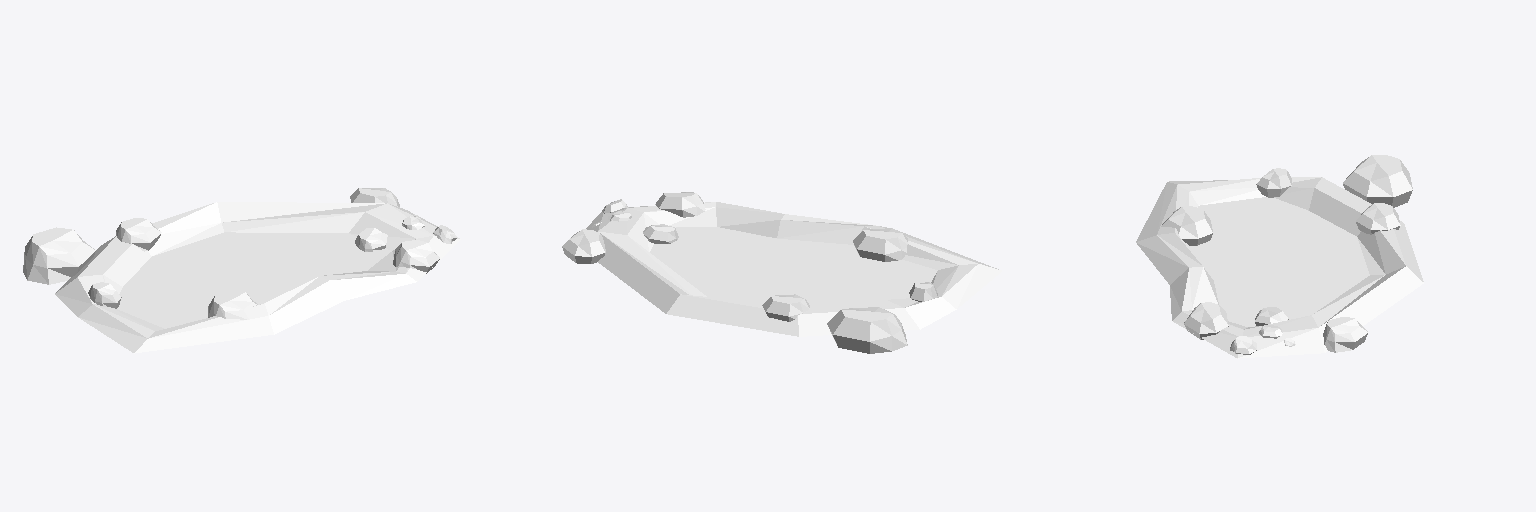
The model's file is oczko_wodne.obj.
The picture shows the model from 3 angles: view 1: azimuth 30°, elevation 25°; view 2: azimuth 150°, elevation 25°; view 3: azimuth 270°, elevation 25°; orthographic projection.
Parts seen in each view (by area): view 1: oczko_wodne; view 2: oczko_wodne; view 3: oczko_wodne.
Part boxes in pixels (left/top/right/bottom): oczko_wodne: left=23, top=188, right=460, bottom=353; oczko_wodne: left=562, top=192, right=1001, bottom=353; oczko_wodne: left=1136, top=155, right=1423, bottom=358.
Size of the model in its own units: 477 by 43.49 by 323.